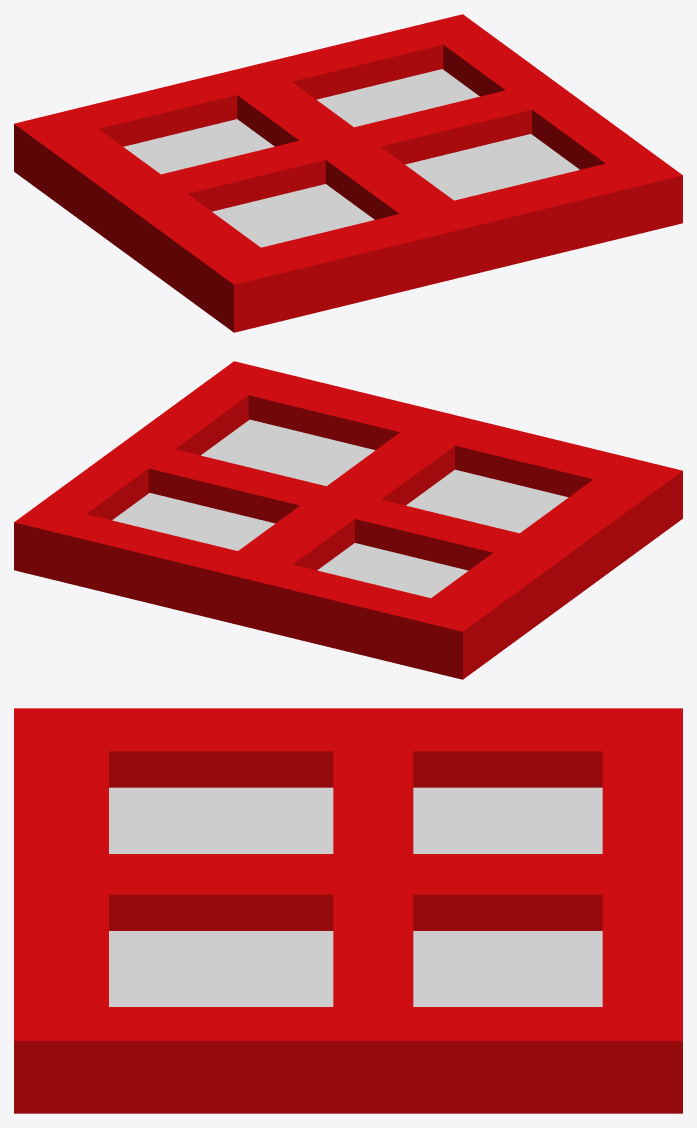
The model's file is window.fbx.
3 renders of one model, top to bottom at view 1: azimuth 30°, elevation 25°; view 2: azimuth 150°, elevation 25°; view 3: azimuth 270°, elevation 25°, orthographic. The views are drawn at different scales.
Parts seen in each view (by area): view 1: Cube; view 2: Cube; view 3: Cube.
Part boxes in pixels (x1,y1,x2,y2): Cube: (14,14,682,332); Cube: (14,361,682,679); Cube: (14,708,682,1113).
Bounding box in the file's own units: 820 × 83.66 × 696.
